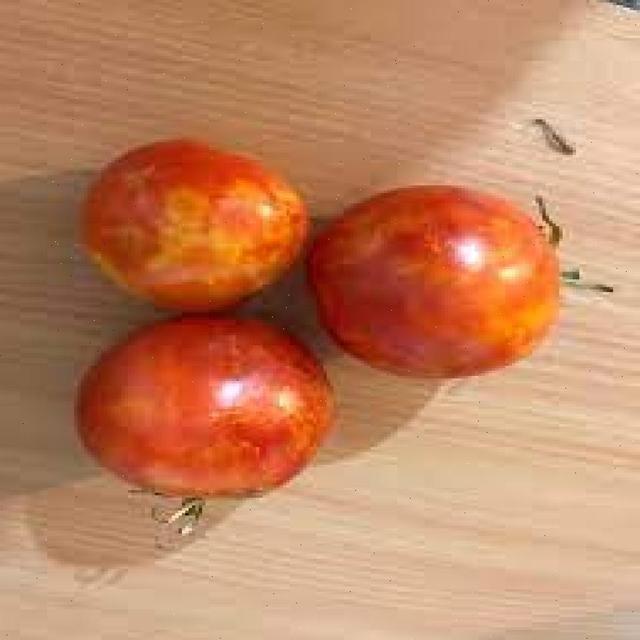Spotted wilt Virus Fruit: (128, 119, 289, 273)
